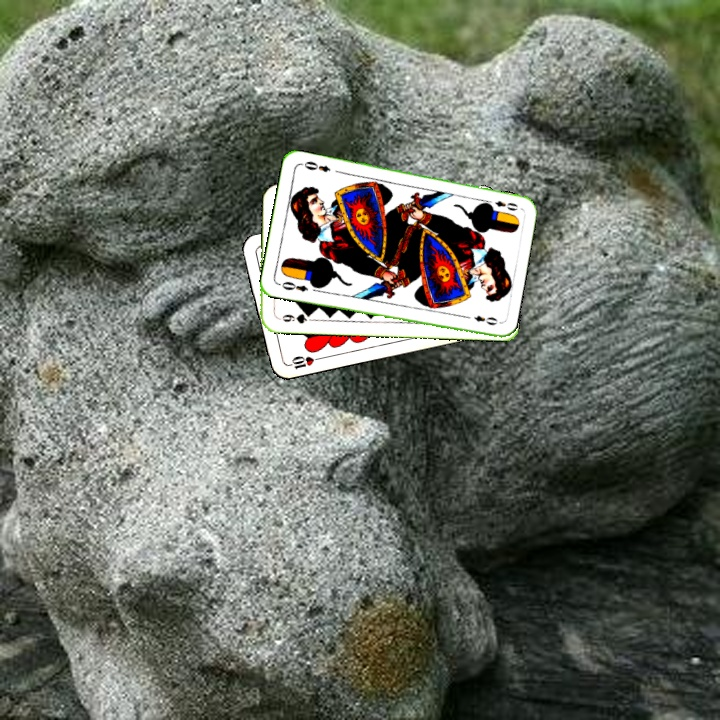EO: (481, 196, 521, 213), (275, 277, 310, 294)
G9: (273, 309, 314, 326)
H10: (282, 352, 323, 372)
